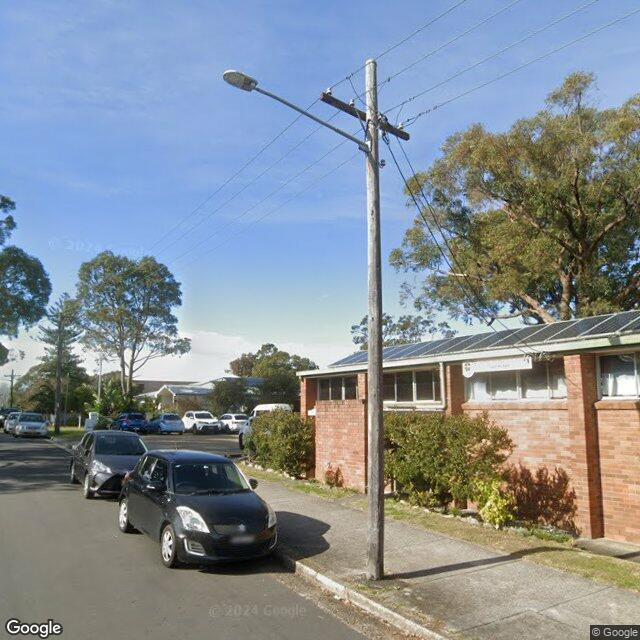crossarm: (319, 86, 410, 140), (3, 374, 21, 377)
streetlight: (222, 70, 371, 154)
timber-pole: (365, 59, 385, 580), (54, 312, 61, 435), (10, 370, 13, 410)
